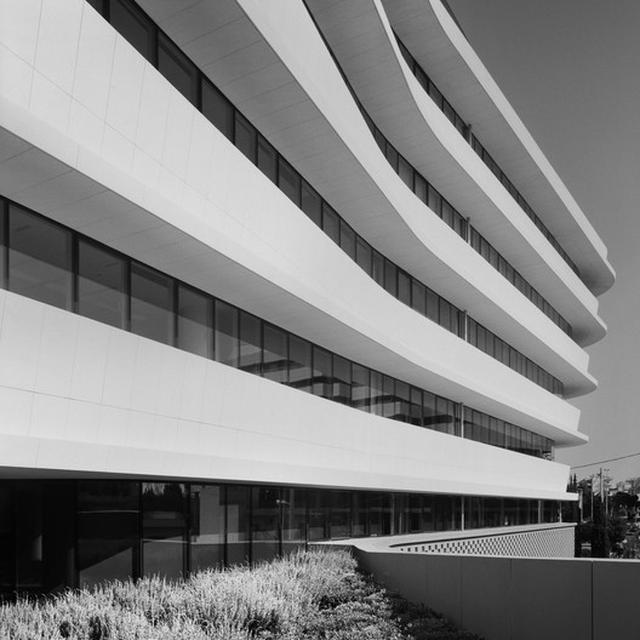building: (0, 0, 616, 525)
